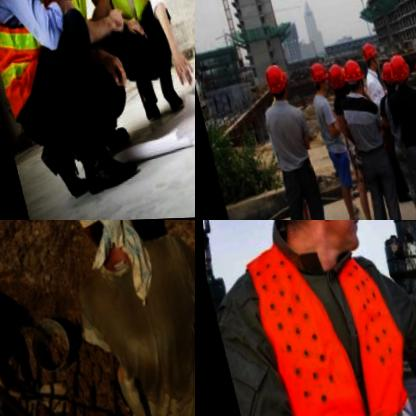helmet: (228, 220, 396, 286), (40, 220, 129, 259), (258, 60, 291, 108), (337, 52, 367, 102), (301, 58, 329, 99), (323, 60, 349, 104), (385, 55, 410, 95), (355, 40, 380, 78), (376, 57, 397, 97), (405, 48, 416, 91)
